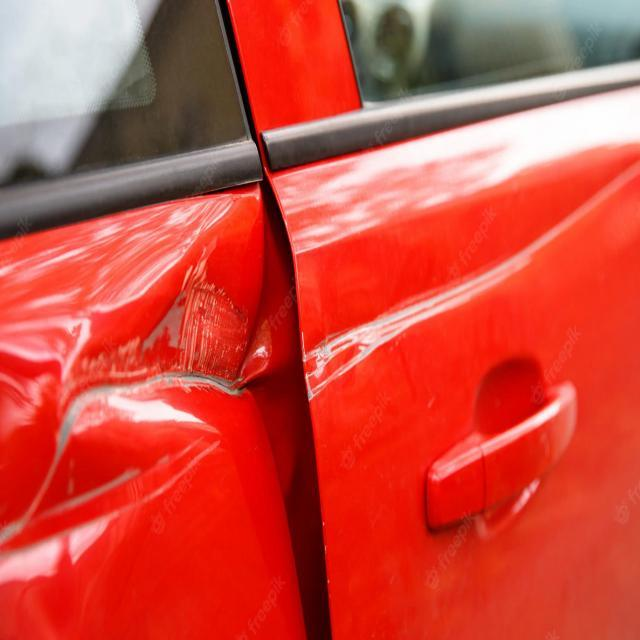dent: (0, 149, 332, 640)
